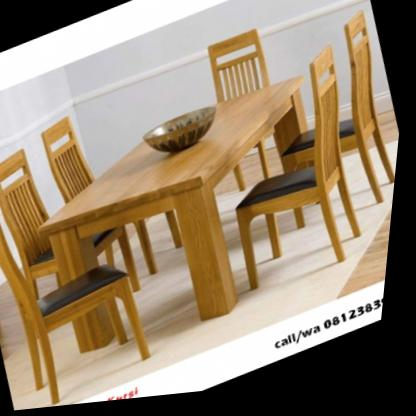Dining Table: (0, 0, 415, 399)
